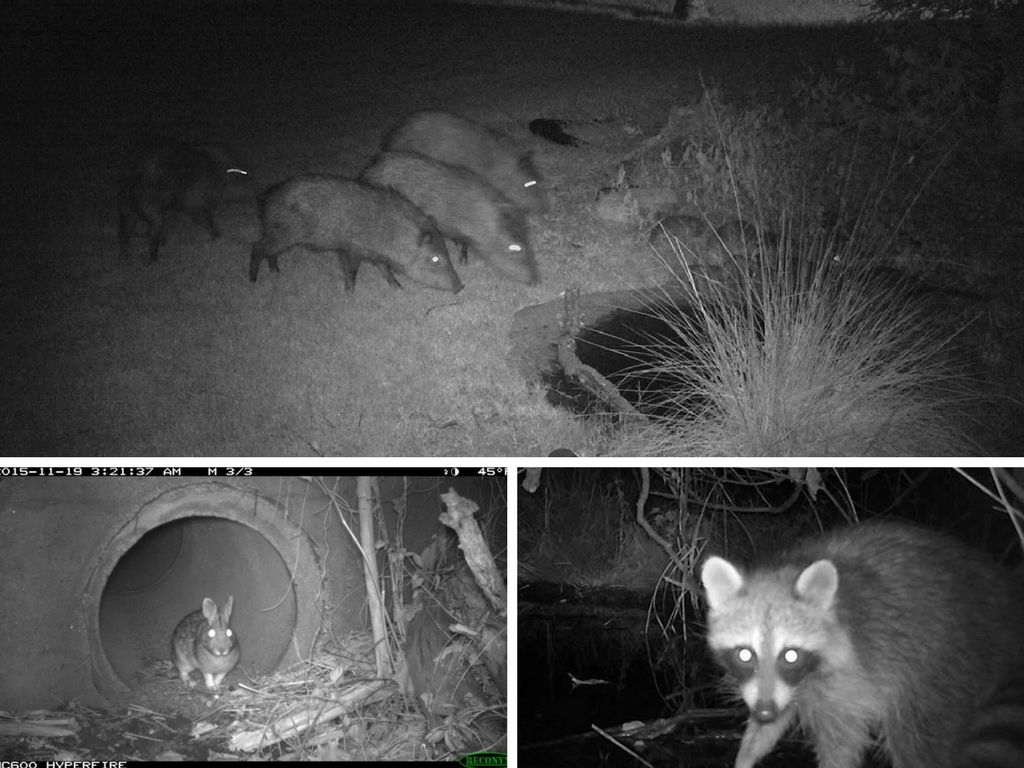javelina: (236, 171, 487, 313), (348, 152, 559, 308), (376, 108, 564, 233), (107, 126, 256, 257)
rabbit: (143, 574, 263, 706)
raccoon: (677, 525, 1024, 761)
